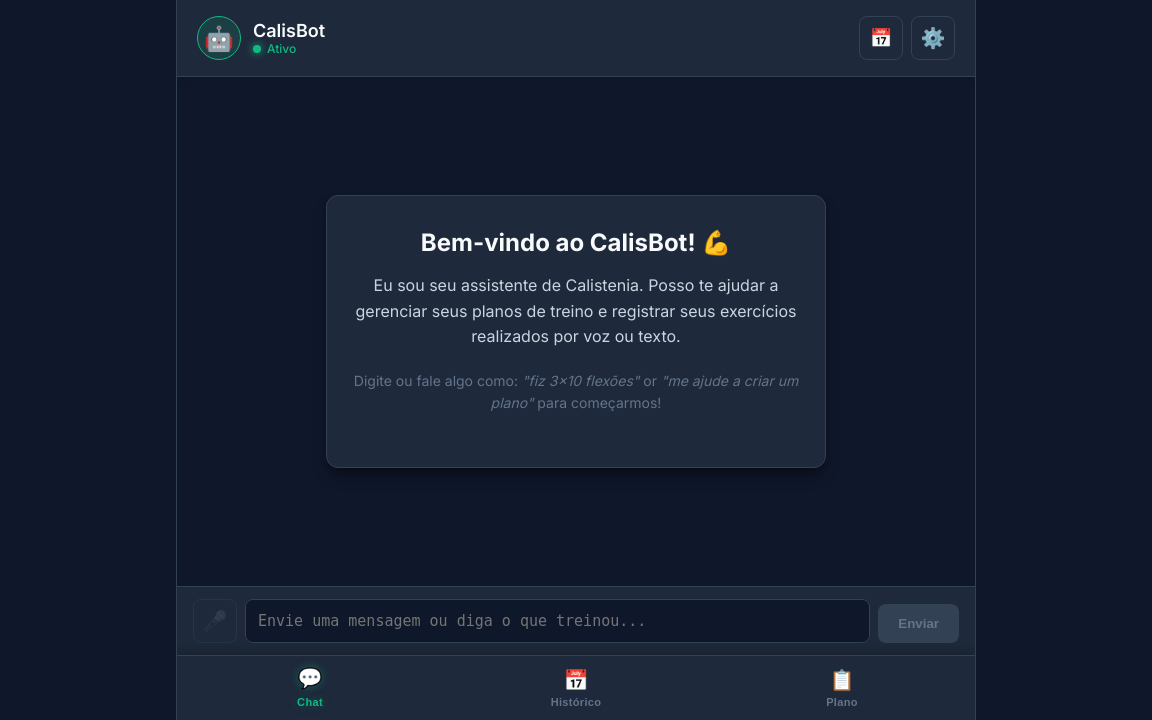
CalisBot App & Components › applies guardrail if message is not related to calisthenics
The image size is (1152, 720).
Type "qual a receita de bolo de chocolate?" into the text box with placeholder "Envie uma mensagem ou diga o que treinou...".
click(558, 621); type("qual a receita de bolo de chocolate?")  # box [245, 599, 870, 643]
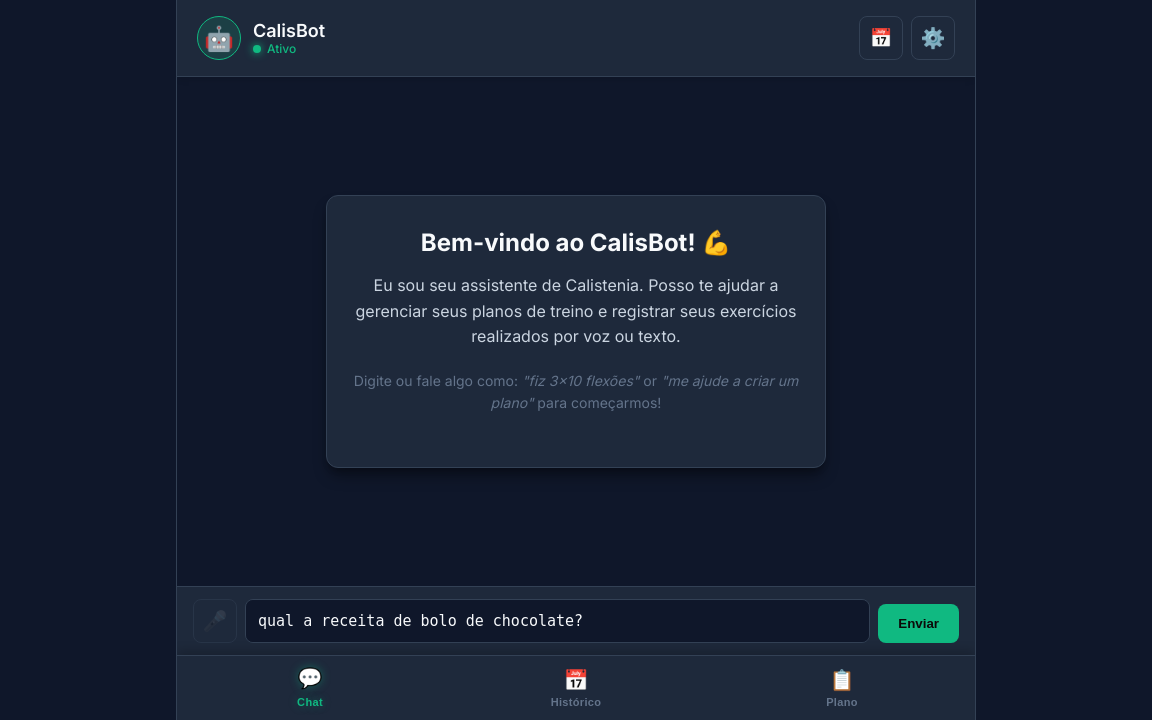
Click the button with aria-label "Enviar mensagem".
click(919, 624)  # box [878, 604, 959, 643]
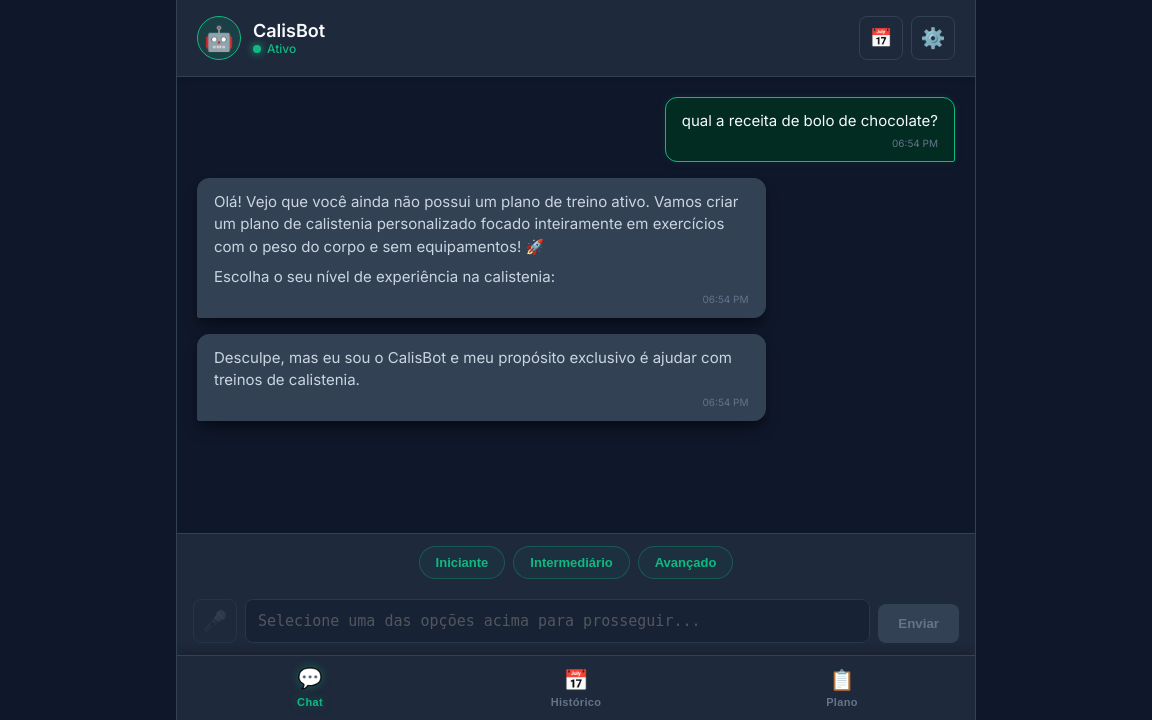
Check: the text "Desculpe, mas eu sou o CalisBot e meu propósito exclusivo é ajudar com treinos de calistenia." is shown, box [214, 348, 732, 389]
